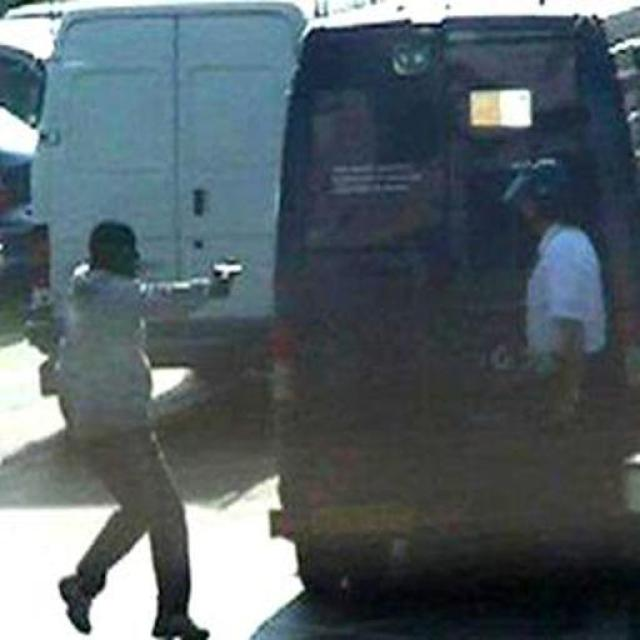pistol: (206, 257, 248, 306)
